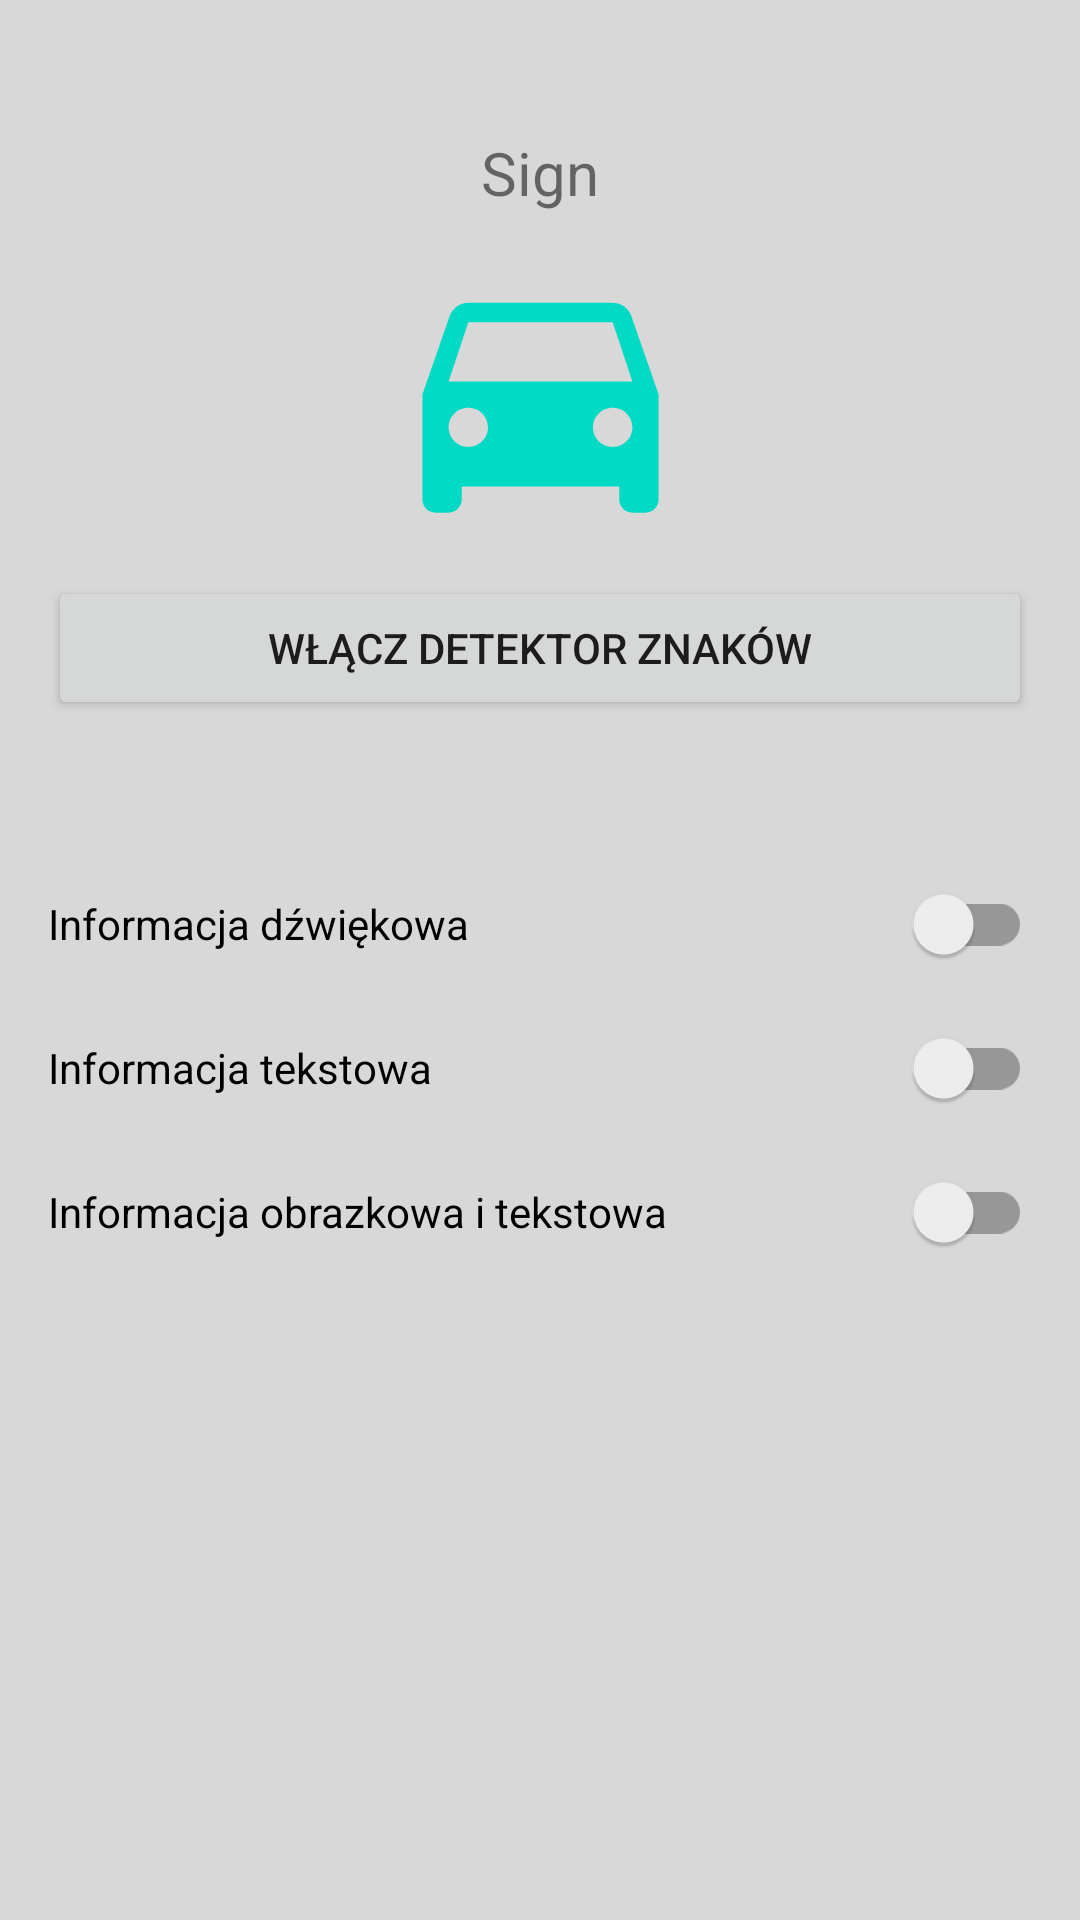

Icon click points for this 1080*1920 phone screenshot, format (x=x, y=y):
car: (x=540, y=407)
